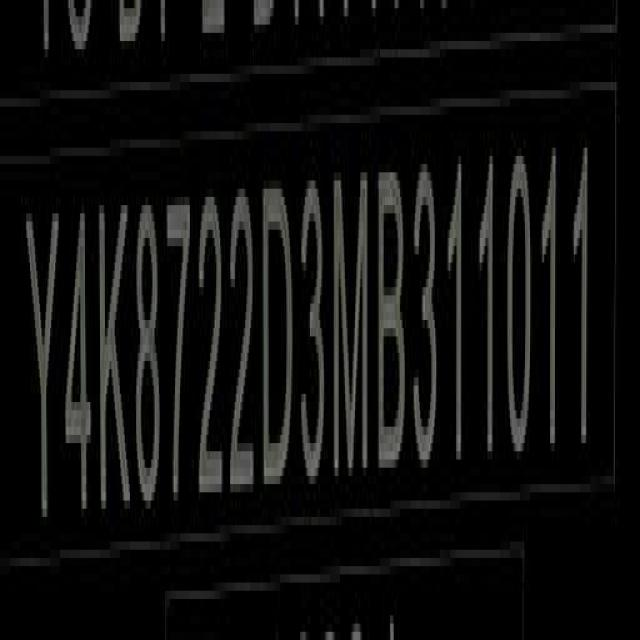0: (505, 139, 533, 472)
1: (538, 130, 564, 472), (568, 127, 593, 471), (449, 146, 472, 475), (476, 147, 498, 472)
2: (228, 182, 258, 510), (198, 187, 225, 513)
3: (302, 174, 330, 490), (414, 154, 440, 476)
4: (61, 196, 93, 534)
7: (167, 186, 193, 517)
8: (136, 192, 162, 520)
B: (380, 159, 410, 479)
D: (260, 173, 295, 494)
K: (98, 195, 134, 530)
M: (334, 161, 373, 485)
Y: (24, 197, 60, 548)
